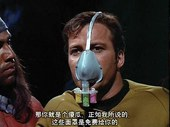face_mask: (68, 24, 116, 89)
